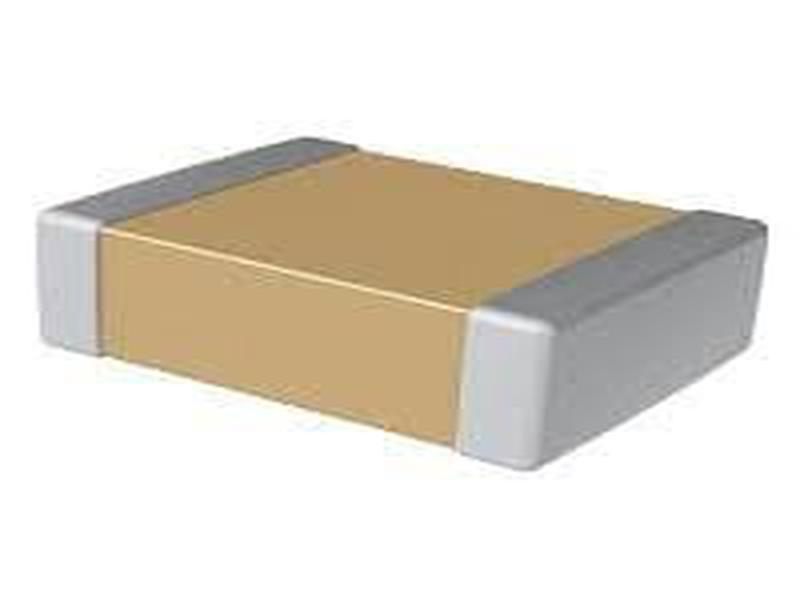SMD capacitor: (13, 132, 796, 480)
